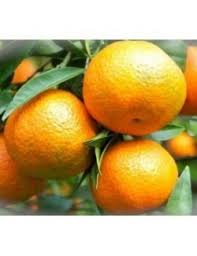orange: (82, 40, 189, 136), (5, 84, 97, 183), (91, 132, 180, 216)
